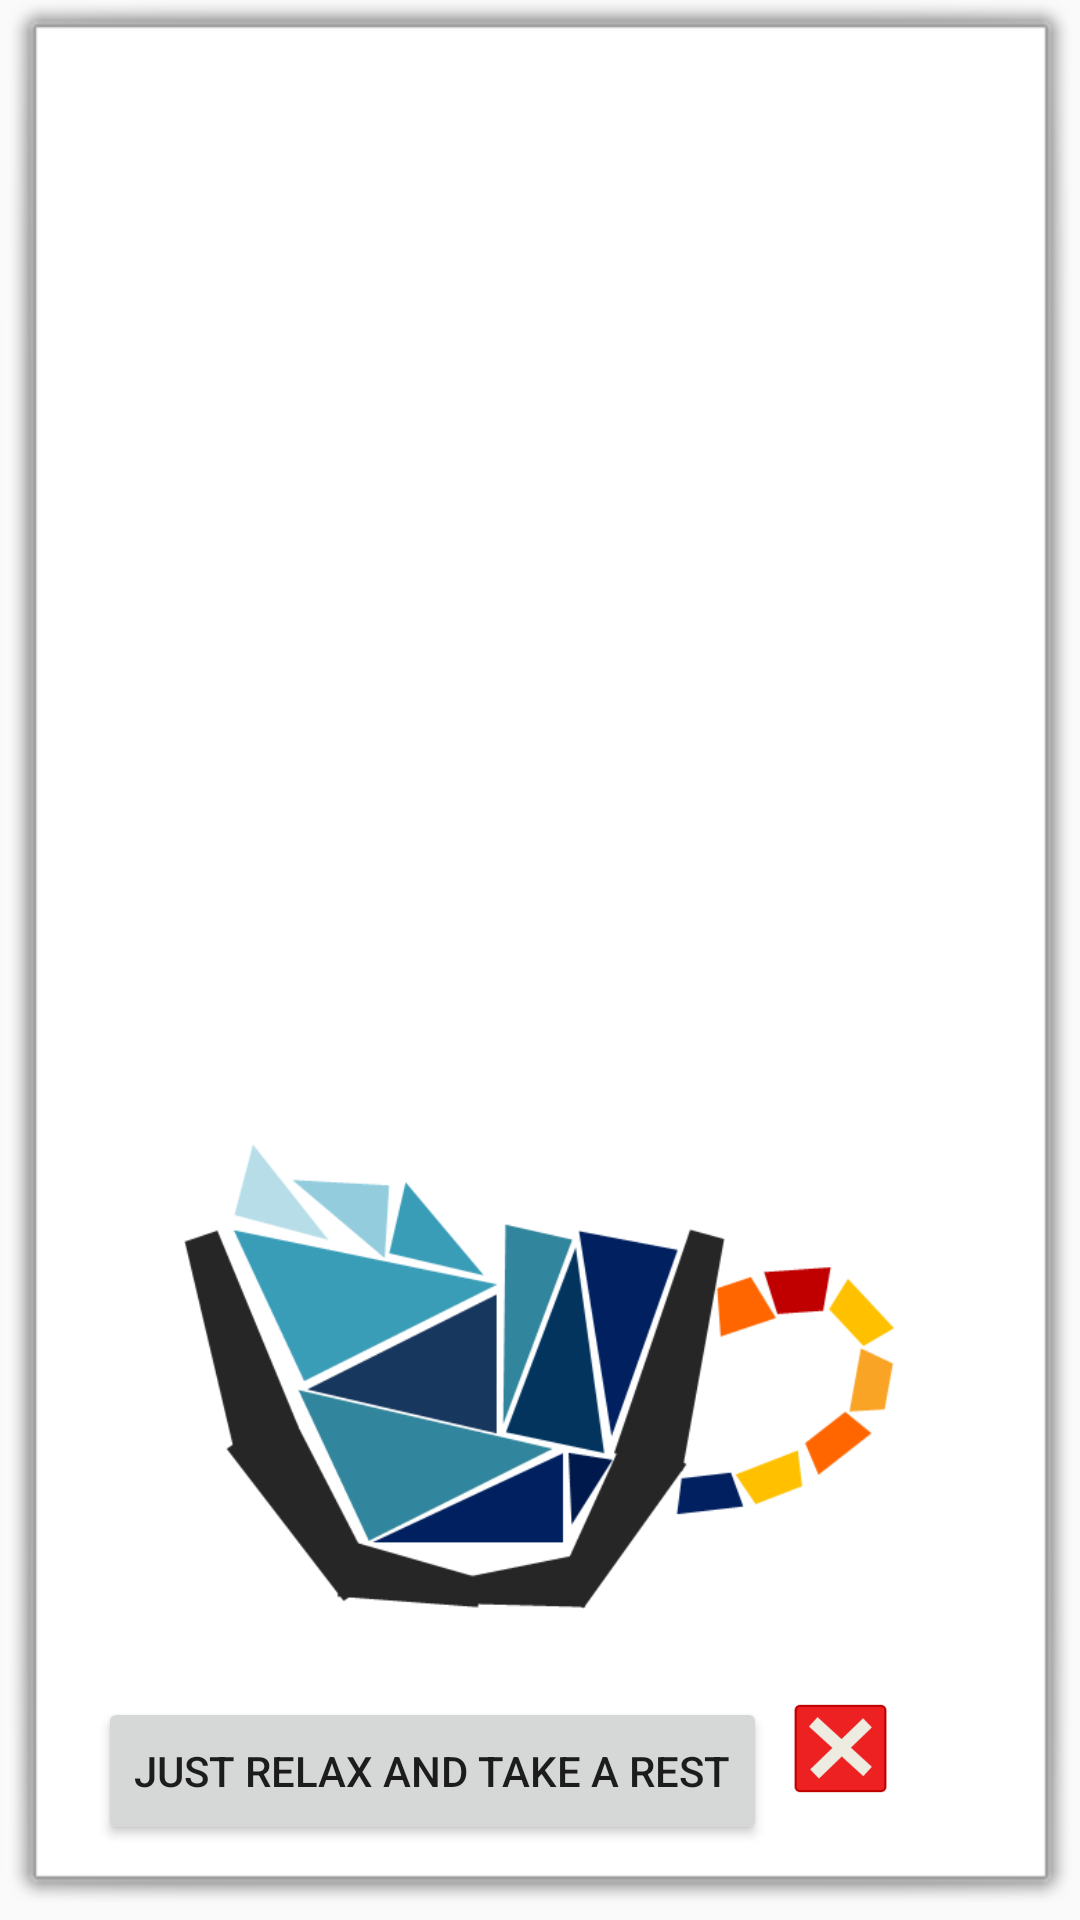

Icon click points for this 1080×1920 phone screenshot, format (x,y):
cancel: (840,1748)
